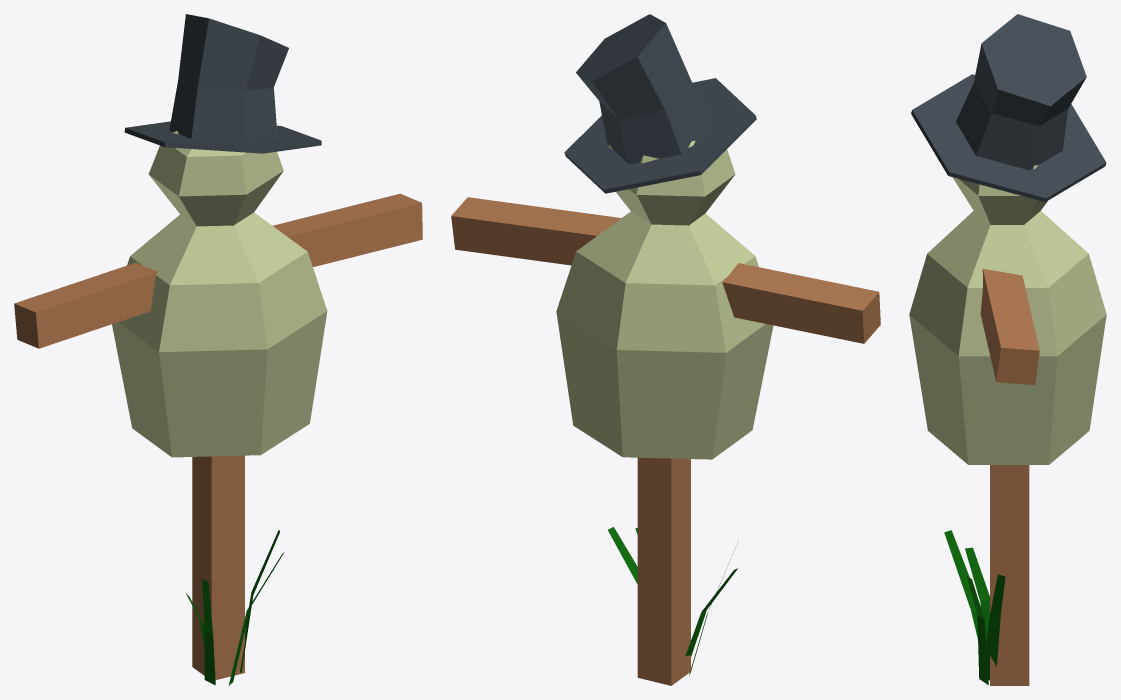
The model's file is dummy.glb.
3 views of the same model, side by side, from view 1: azimuth 30°, elevation 25°; view 2: azimuth 150°, elevation 25°; view 3: azimuth 270°, elevation 25° (orthographic).
Parts seen in each view (by area): view 1: Cylinder, Cylinder.002, Cylinder.001, Plane; view 2: Cylinder, Cylinder.002, Cylinder.001, Plane; view 3: Cylinder, Cylinder.001, Cylinder.002, Plane.
Boxes of the visible parts, box(x1,y1,x2,y2) form: Cylinder: box(112, 131, 327, 457); Cylinder.002: box(14, 193, 422, 679); Cylinder.001: box(124, 14, 321, 153); Plane: box(186, 530, 284, 685); Cylinder: box(556, 140, 773, 459); Cylinder.002: box(451, 197, 880, 685); Cylinder.001: box(564, 14, 756, 193); Plane: box(608, 527, 738, 675); Cylinder: box(909, 165, 1106, 464); Cylinder.001: box(911, 14, 1106, 201); Cylinder.002: box(980, 268, 1039, 685); Plane: box(944, 530, 1005, 685).
Size of the model in its own units: 3.81 by 5.98 by 1.61.
